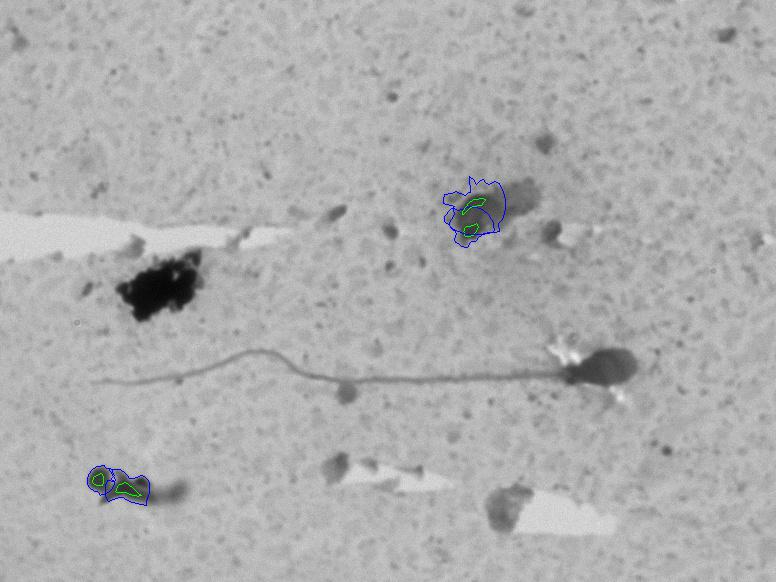Normal: (54, 325, 673, 456)
